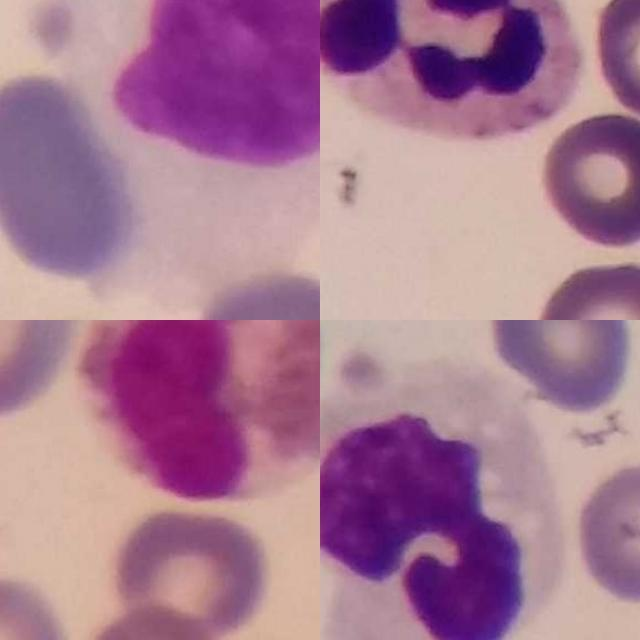Eosinophil: (76, 320, 320, 502)
Monocyte: (320, 356, 566, 640), (74, 0, 320, 274)
Neutrophil: (320, 0, 579, 140)
